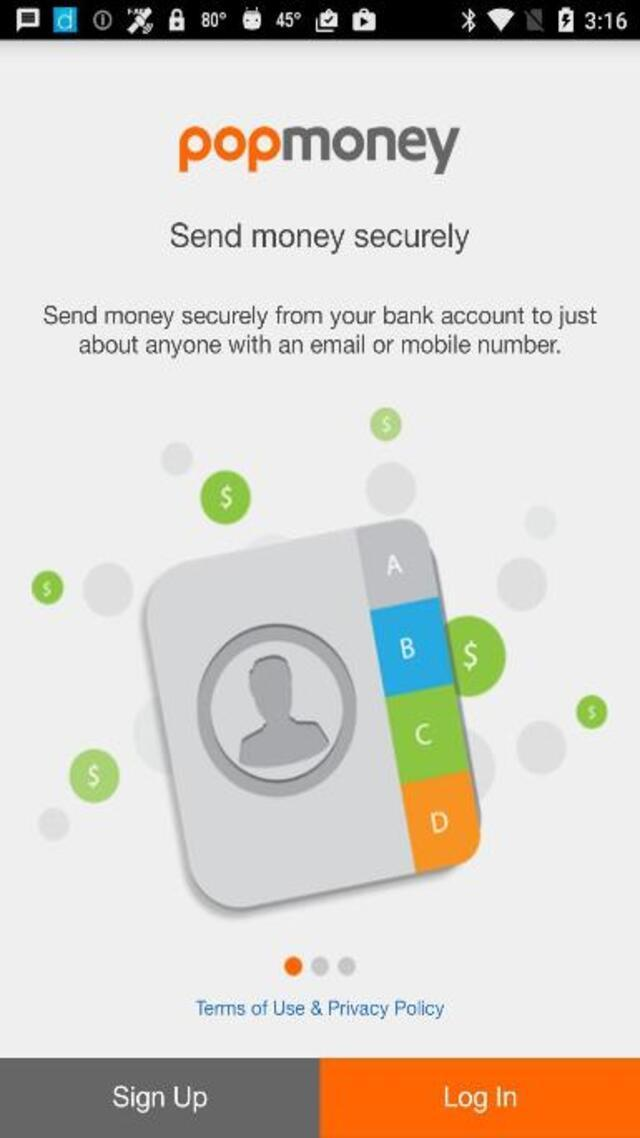Image: (26, 400, 608, 916), (178, 126, 460, 176)
Text: (44, 304, 600, 332), (73, 332, 567, 358), (172, 220, 470, 252), (197, 998, 446, 1018), (109, 1083, 212, 1115), (435, 1082, 522, 1112)
TextButton: (321, 1058, 640, 1136), (0, 1058, 319, 1136)
